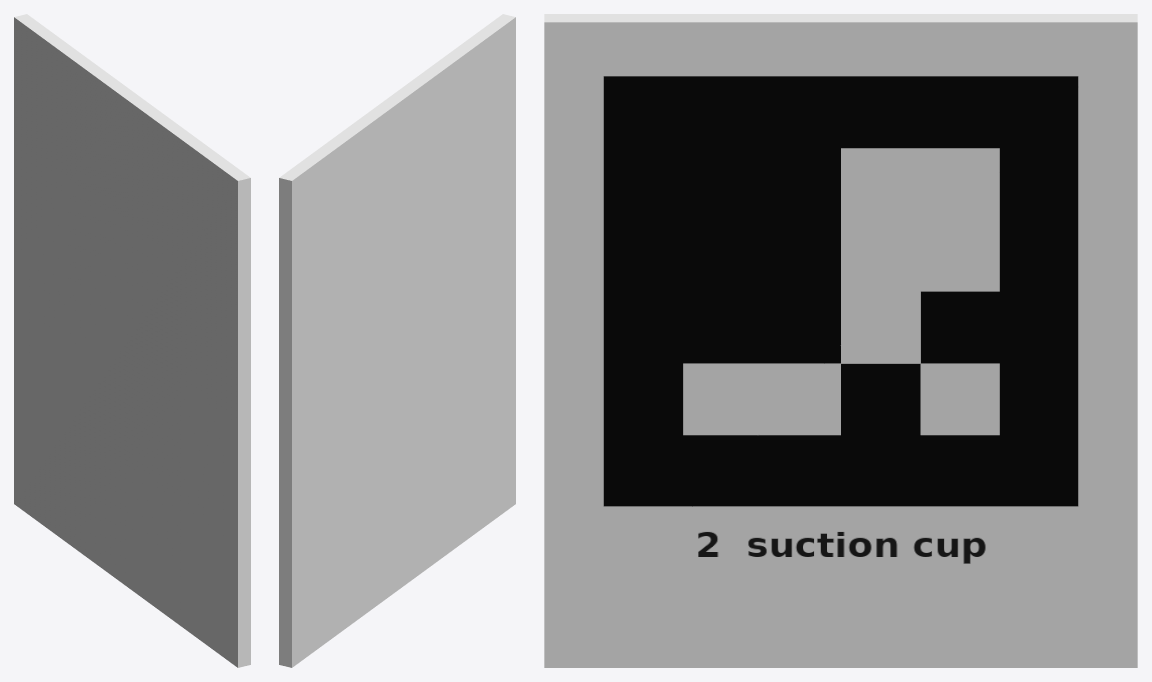
File: tag_suction_cup.dae
3 views of the same model, side by side, from view 1: azimuth 30°, elevation 25°; view 2: azimuth 150°, elevation 25°; view 3: azimuth 270°, elevation 25° (orthographic). The views are drawn at different scales.
Visible parts, largest first — view 1: tag_suction_cup; view 2: tag_suction_cup; view 3: tag_suction_cup.
Part boxes in pixels (box(x1,y1,x2,y2)): tag_suction_cup: box(14, 14, 250, 667); tag_suction_cup: box(279, 14, 515, 667); tag_suction_cup: box(544, 14, 1137, 667).
Bounding box in the file's own units: 0.01 × 0.3 × 0.36.
1 material, 1 textured.
